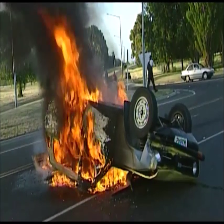fire_h: (44, 16, 110, 182), (89, 166, 129, 194), (48, 170, 76, 189)
fire_l: (118, 80, 129, 106), (42, 155, 52, 169)
